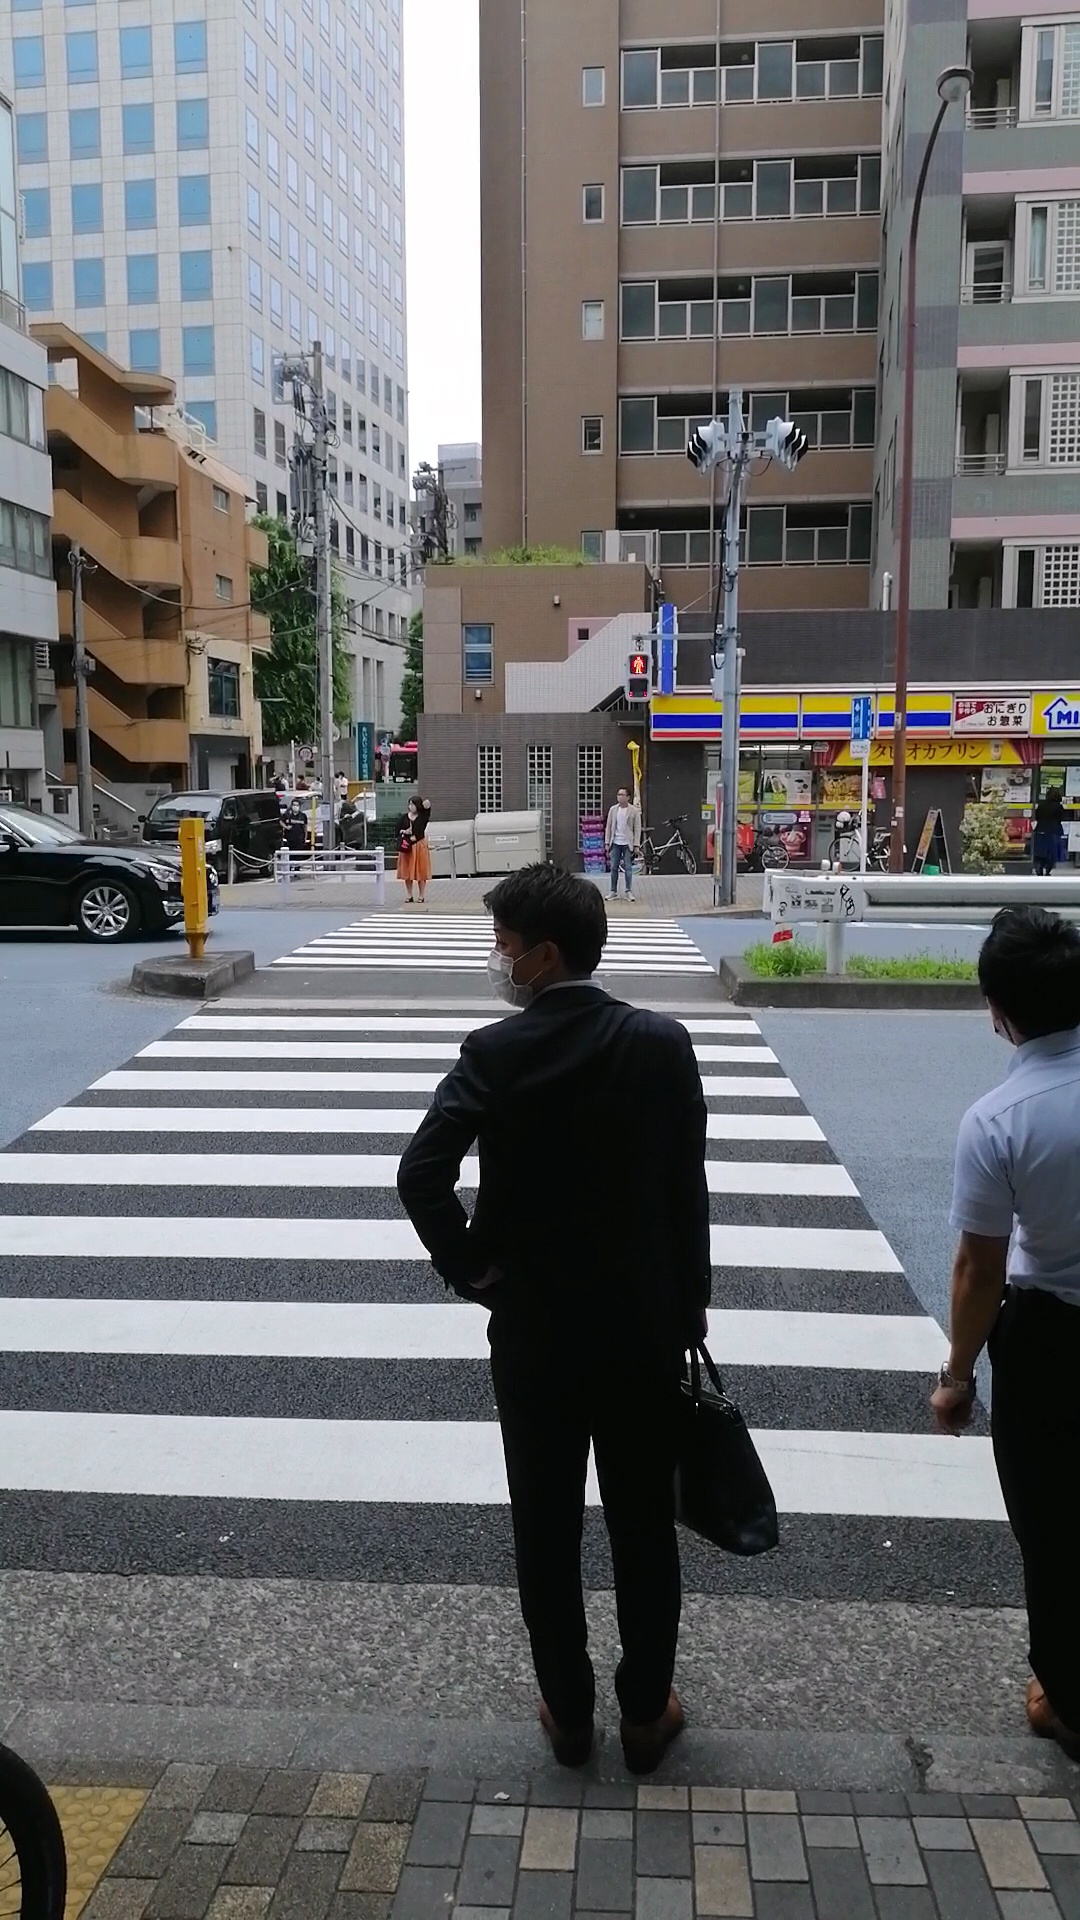red: (624, 651, 653, 702)
